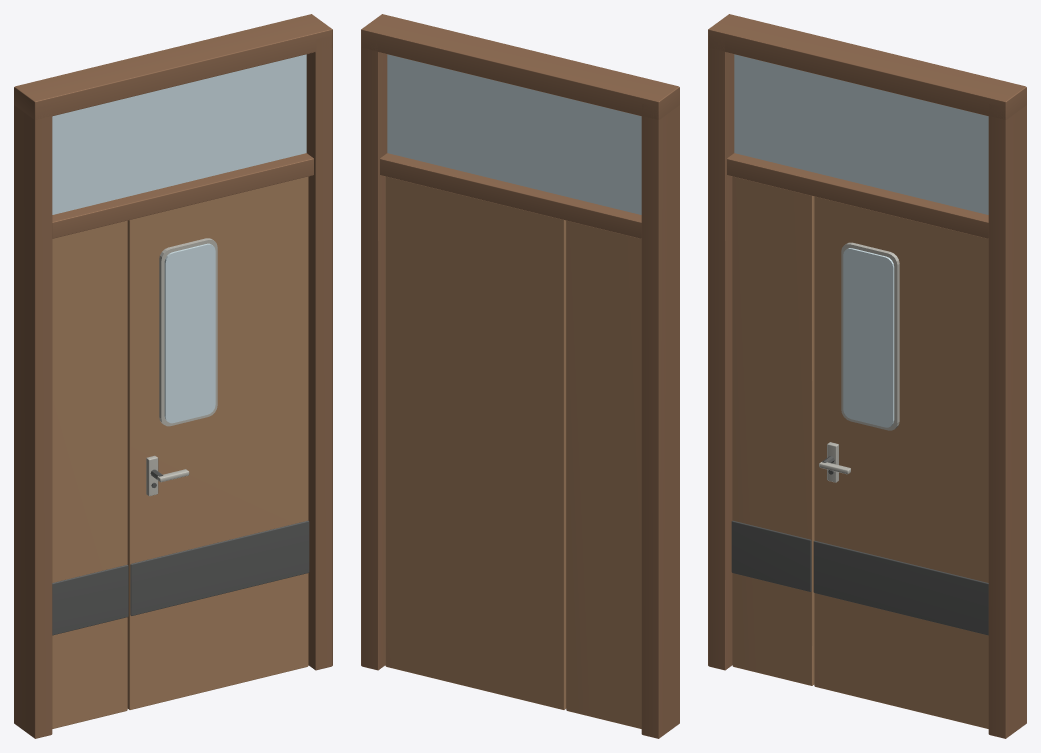
File: ClassroomDoor.fbx
3 renders of one model, left to right at view 1: azimuth 30°, elevation 25°; view 2: azimuth 150°, elevation 25°; view 3: azimuth 330°, elevation 25°, orthographic.
Parts seen in each view (by area): view 1: Honey beech, Amber teak, Frosted teal, Graphite enamel, Brushed nickel; view 2: Honey beech, Amber teak, Frosted teal; view 3: Honey beech, Amber teak, Frosted teal, Graphite enamel, Brushed nickel.
Boxes of the visible parts, x1,y1,x2,y2 form: Honey beech: (52, 176, 308, 728); Amber teak: (14, 14, 332, 738); Frosted teal: (52, 54, 306, 423); Graphite enamel: (52, 469, 309, 635); Brushed nickel: (146, 238, 217, 496); Honey beech: (385, 176, 641, 728); Amber teak: (361, 14, 679, 738); Frosted teal: (387, 54, 641, 214); Honey beech: (732, 176, 988, 728); Amber teak: (708, 14, 1026, 738); Frosted teal: (734, 54, 988, 427); Graphite enamel: (731, 456, 988, 635); Brushed nickel: (819, 242, 899, 482).
Size of the model in its own units: 114 by 232 by 18.75.
